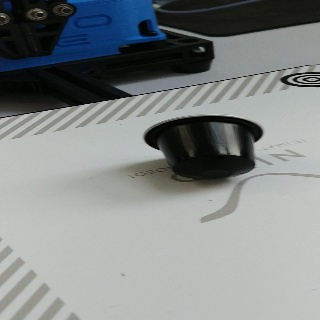capsule_10: (142, 112, 266, 180)
